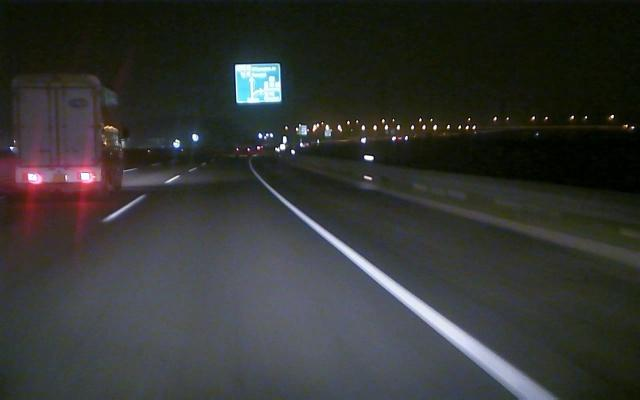lane: (266, 186, 561, 399), (103, 178, 176, 221)
